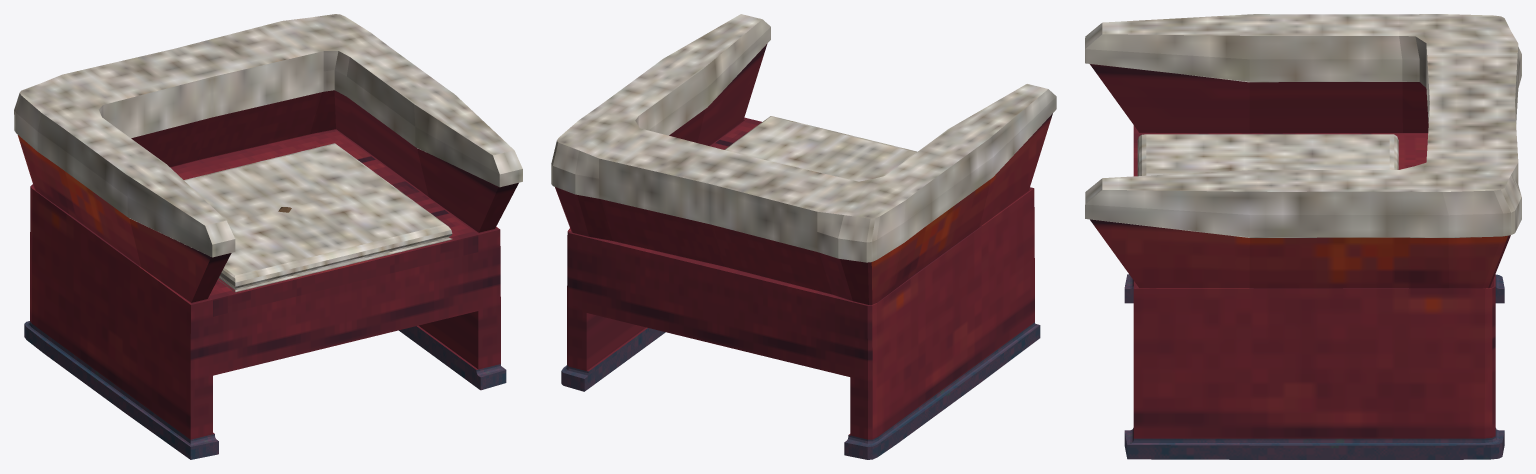
File: Sofa_Chair.fbx
3 views of the same model, side by side, from view 1: azimuth 30°, elevation 25°; view 2: azimuth 150°, elevation 25°; view 3: azimuth 270°, elevation 25° (orthographic). The views are drawn at different scales.
Parts seen in each view (by area): view 1: Sofa_chair; view 2: Sofa_chair; view 3: Sofa_chair.
Boxes of the visible parts, x1,y1,x2,y2 form: Sofa_chair: (14,14,522,459); Sofa_chair: (551,14,1056,459); Sofa_chair: (1085,14,1521,459).
Size of the model in its own units: 2.35 by 1.66 by 2.41.
5 materials, 4 textured.
